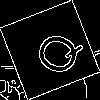Q: (25, 25, 85, 80)
